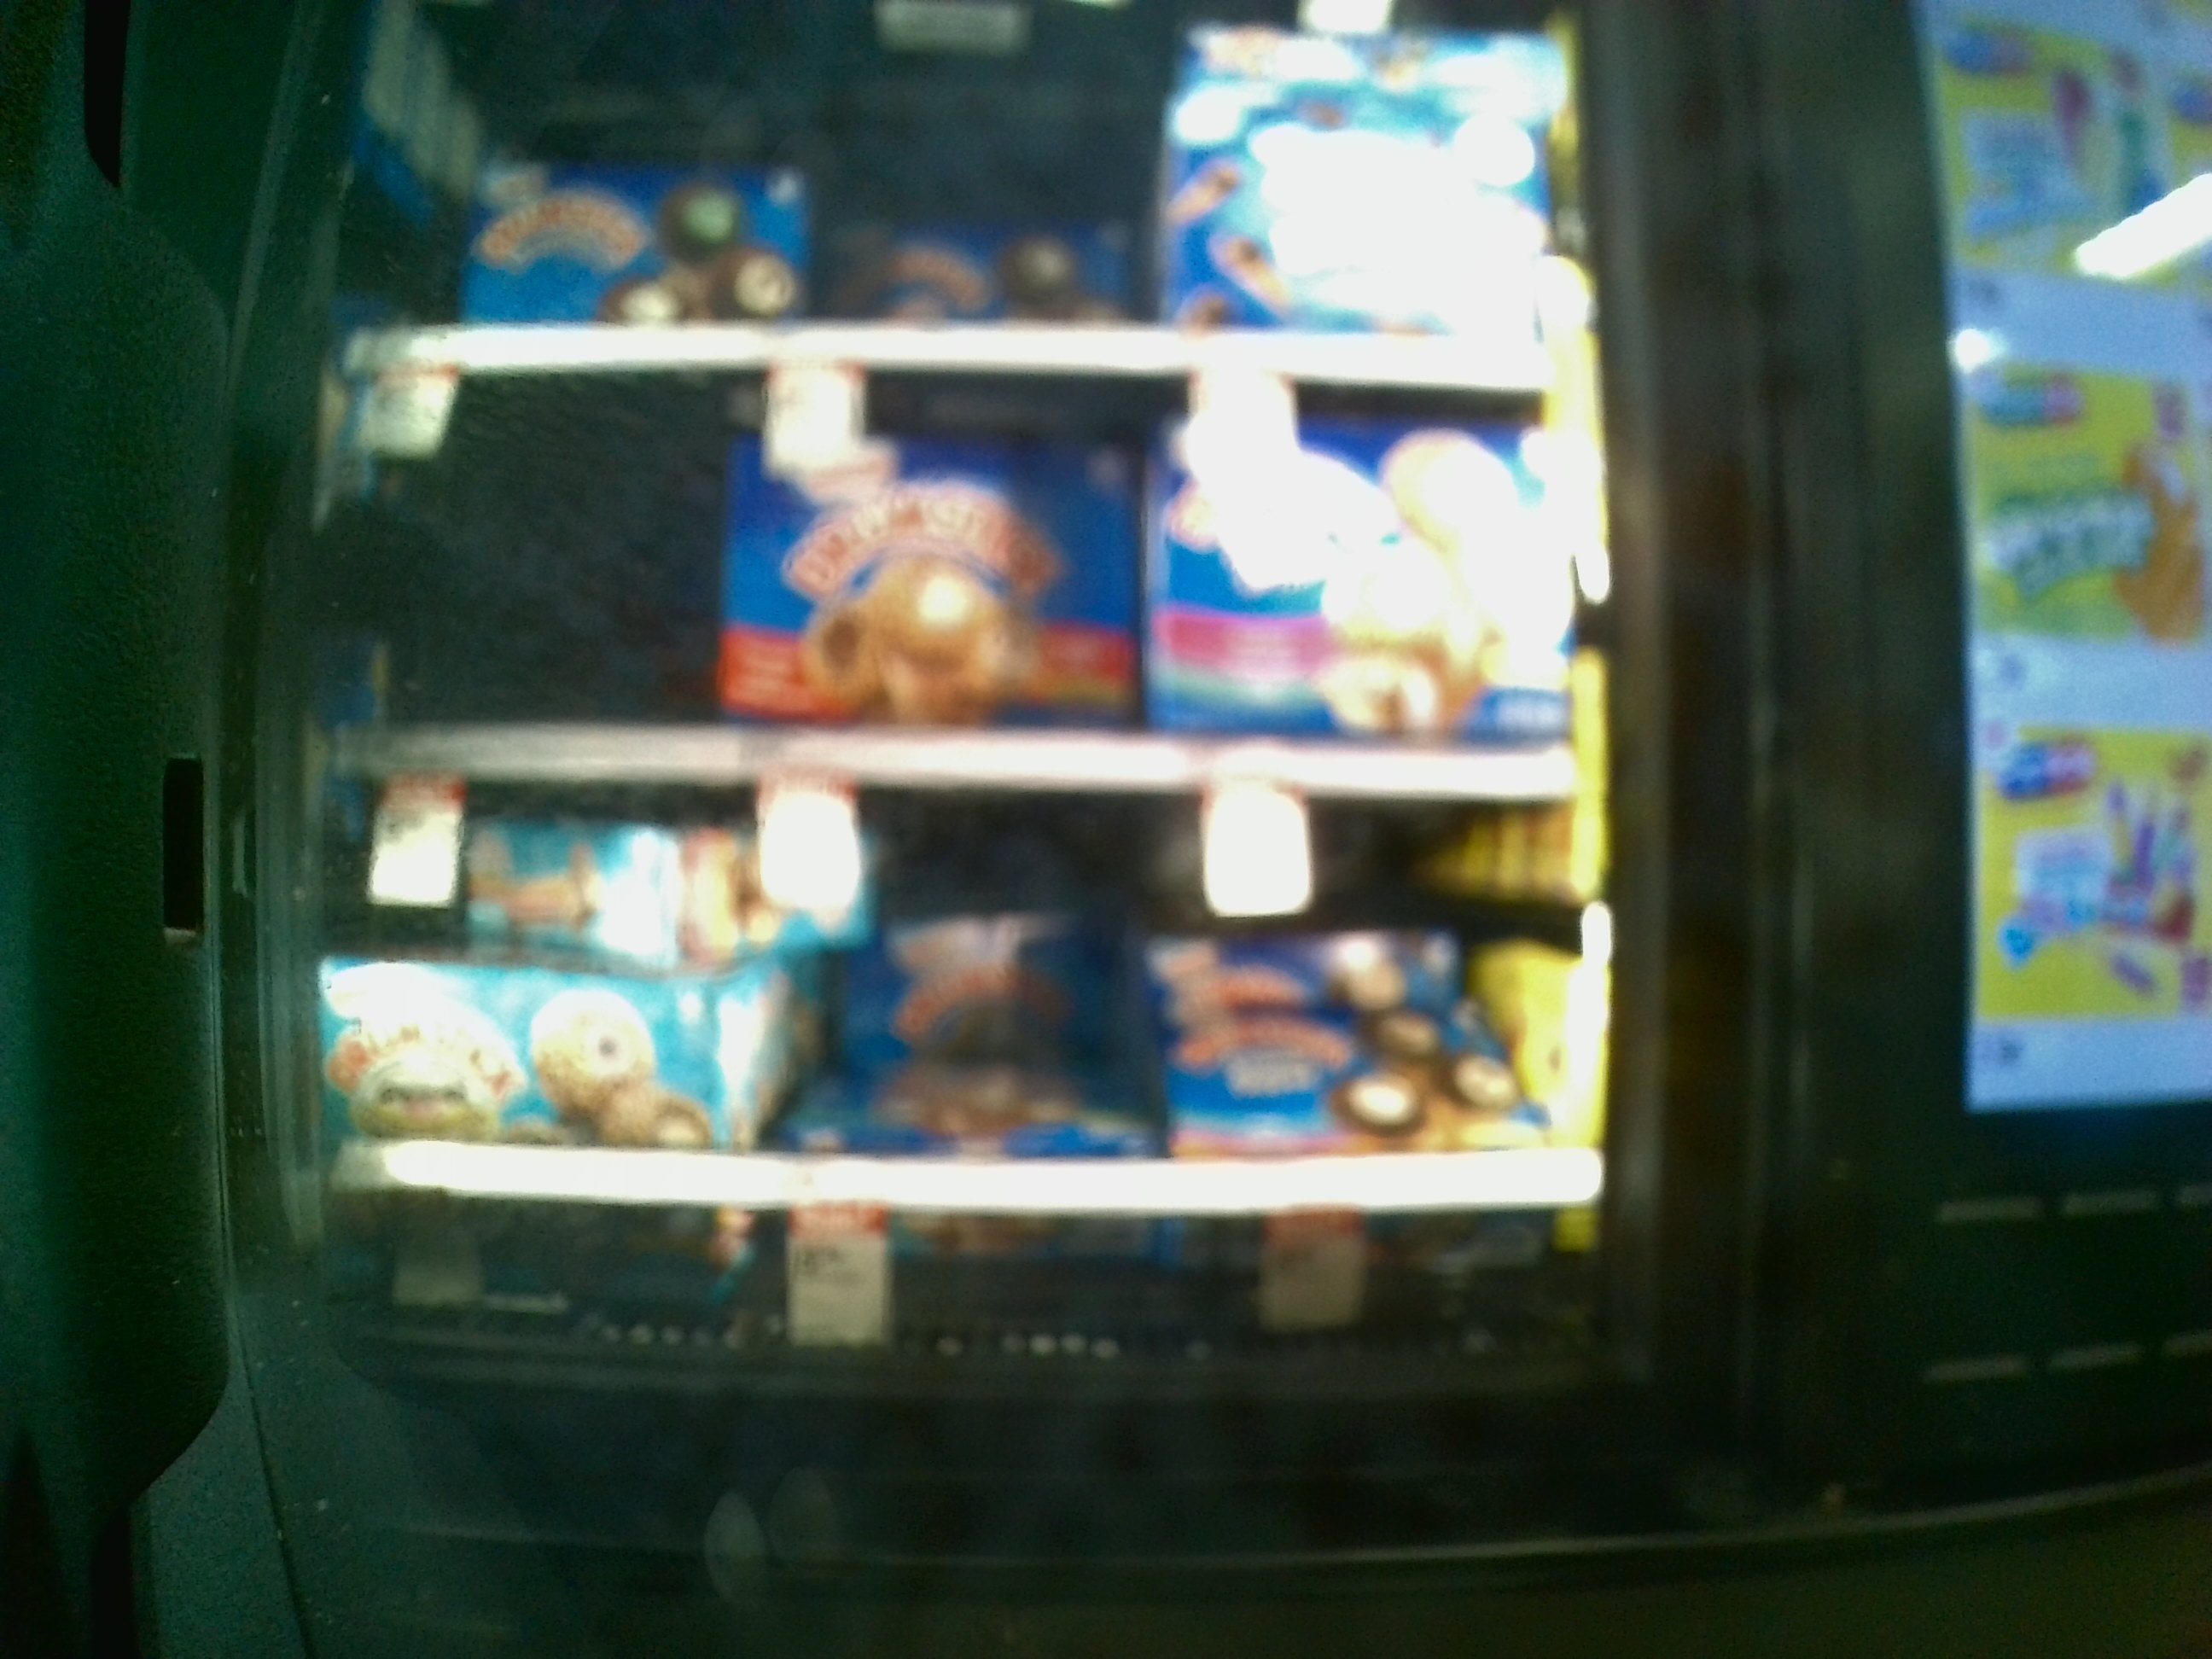shelf: (296, 769, 1649, 1291), (315, 364, 1622, 791)
